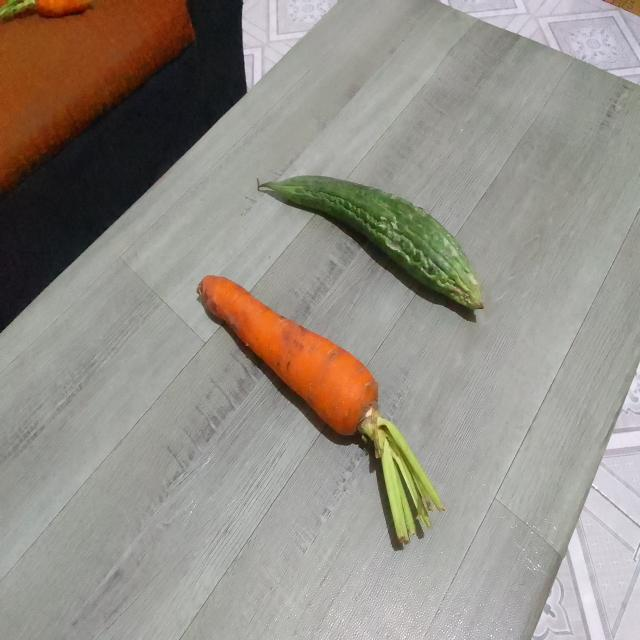ampalaya: (256, 168, 489, 315)
carrot: (193, 269, 445, 554)
